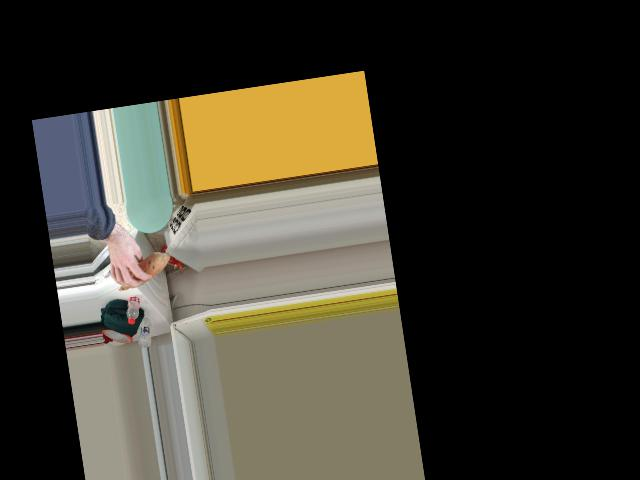sweet_potato: (111, 251, 171, 291)
